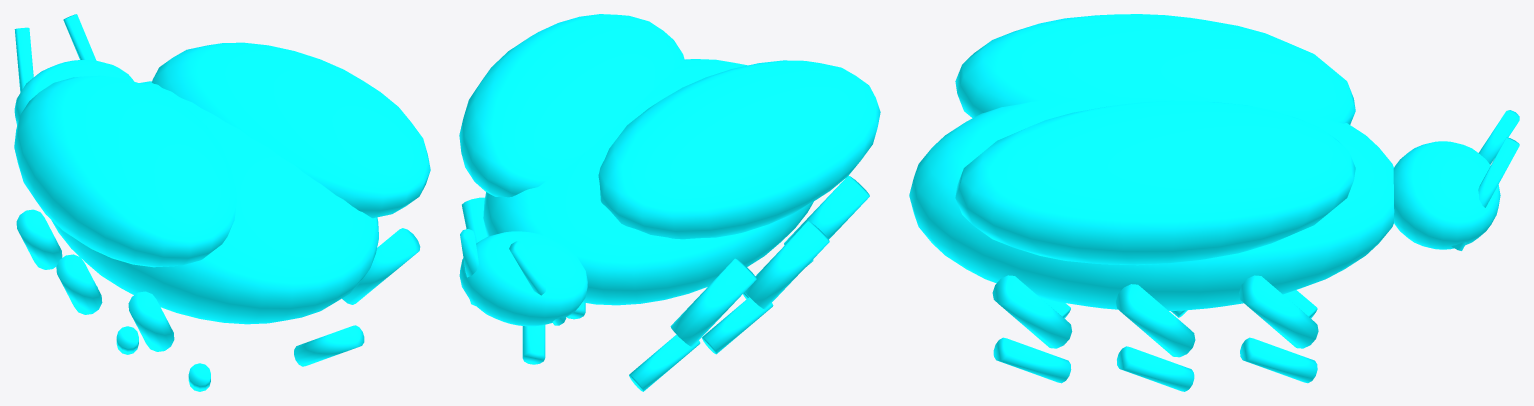
Rendered from scarab.glb.
The picture shows the model from 3 angles, left to right: view 1: azimuth 30°, elevation 25°; view 2: azimuth 150°, elevation 25°; view 3: azimuth 270°, elevation 25°; orthographic projection. The views are drawn at different scales.
Parts seen in each view (by area): view 1: Egyptian_Scarab; view 2: Egyptian_Scarab; view 3: Egyptian_Scarab.
Boxes of the visible parts, x1,y1,x2,y2 form: Egyptian_Scarab: (14,14,430,391); Egyptian_Scarab: (459,14,880,391); Egyptian_Scarab: (909,14,1519,391).
Size of the model in its own units: 1.27 by 0.9072 by 1.78.
